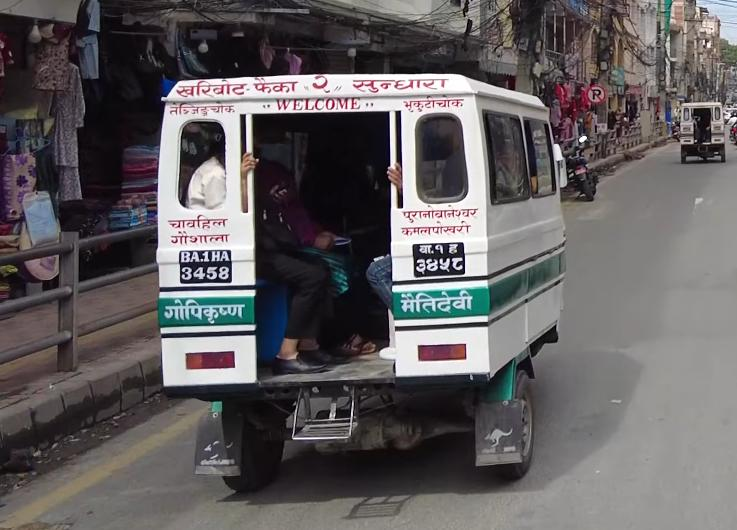bike: (565, 136, 598, 202)
tempo: (149, 66, 576, 490), (675, 99, 726, 165)
